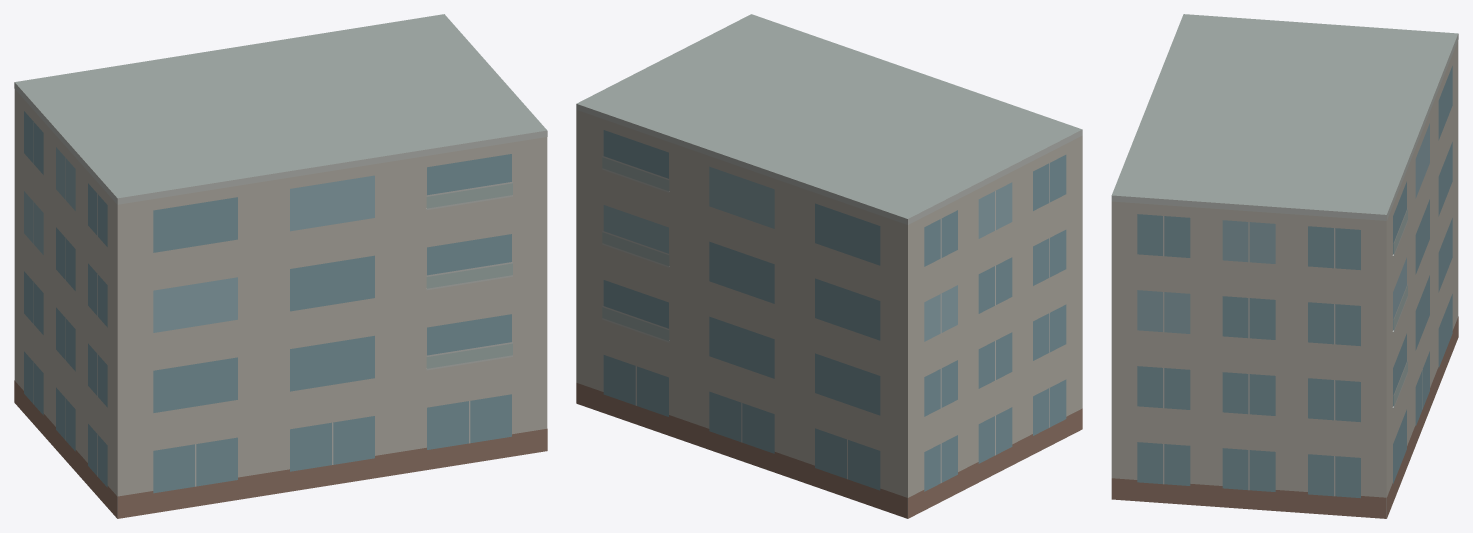
The model's file is residential-4dcaa62c-e799-4952-a025-f3c4ded32eaf.glb.
3 views of the same model, side by side, from view 1: azimuth 30°, elevation 25°; view 2: azimuth 150°, elevation 25°; view 3: azimuth 270°, elevation 25° (orthographic). The views are drawn at different scales.
Parts seen in each view (by area): view 1: residential-4dcaa62c-e799-4952-a025-f3c4ded32eaf.tmp; view 2: residential-4dcaa62c-e799-4952-a025-f3c4ded32eaf.tmp; view 3: residential-4dcaa62c-e799-4952-a025-f3c4ded32eaf.tmp.
Boxes of the visible parts, x1=… form: residential-4dcaa62c-e799-4952-a025-f3c4ded32eaf.tmp: x1=14, y1=14, x2=547, y2=518; residential-4dcaa62c-e799-4952-a025-f3c4ded32eaf.tmp: x1=576, y1=14, x2=1082, y2=518; residential-4dcaa62c-e799-4952-a025-f3c4ded32eaf.tmp: x1=1111, y1=14, x2=1458, y2=518.
Size of the model in its own units: 17.3 by 12.2 by 12.62.
